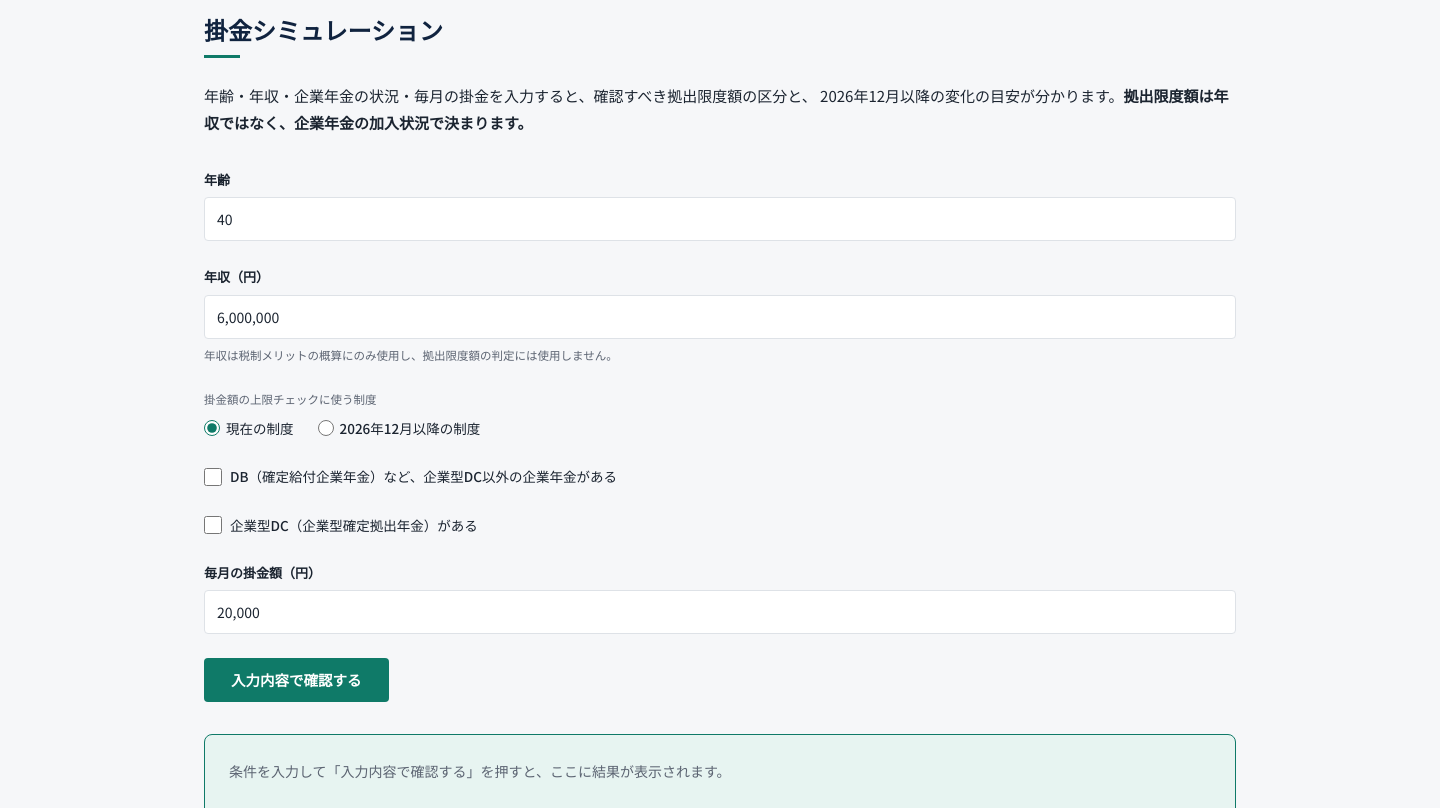
Test: SimulatorSection › 年齢・年収の入力UX › 毎月の掛金額欄もカンマ区切りで表示される
This screenshot has width=1440, height=808.
Replace the text in the field labelled "毎月の掛金額（円）" with "123000". click: (720, 612)
box: [204,590,1236,634]
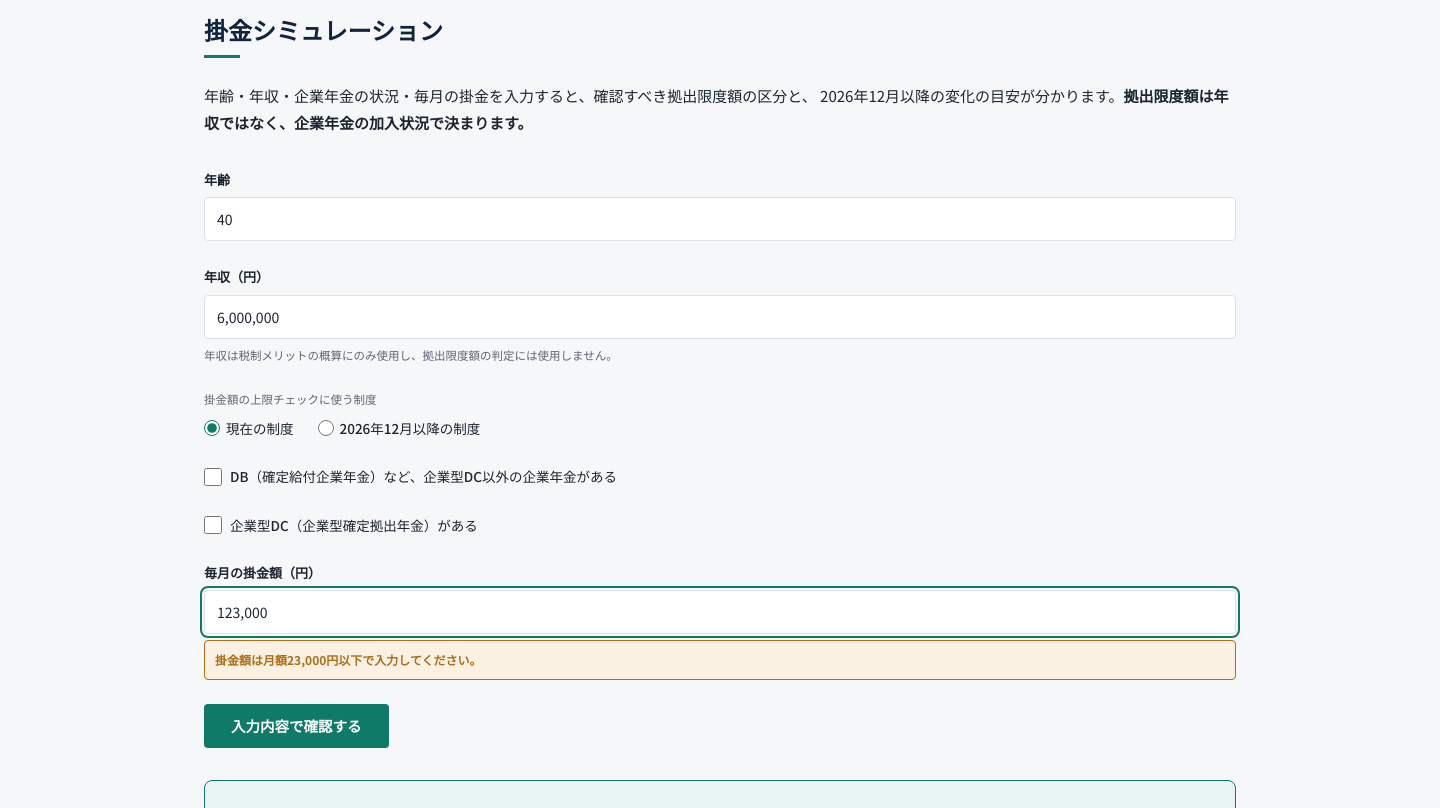
expect the field labelled "毎月の掛金額（円）" holds "123,000": met, box [204,590,1236,634]
